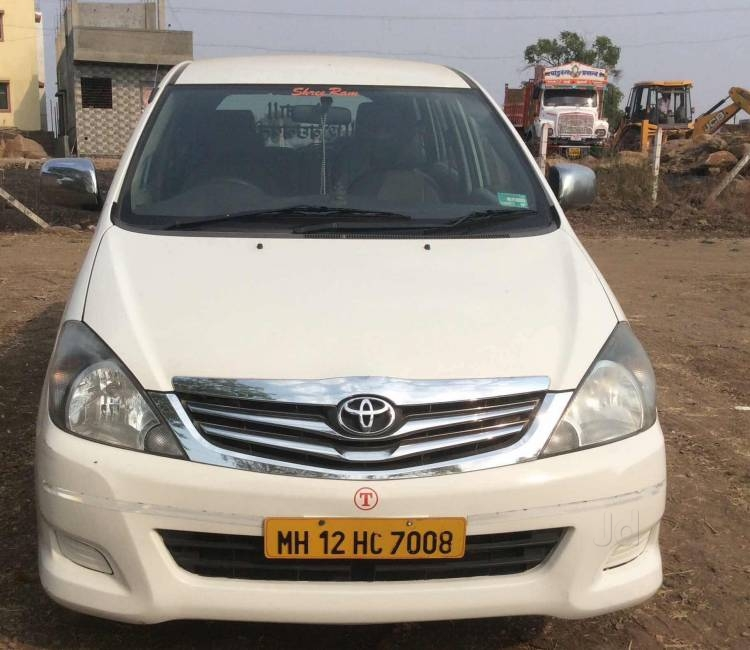numberplate: (263, 513, 467, 560)
